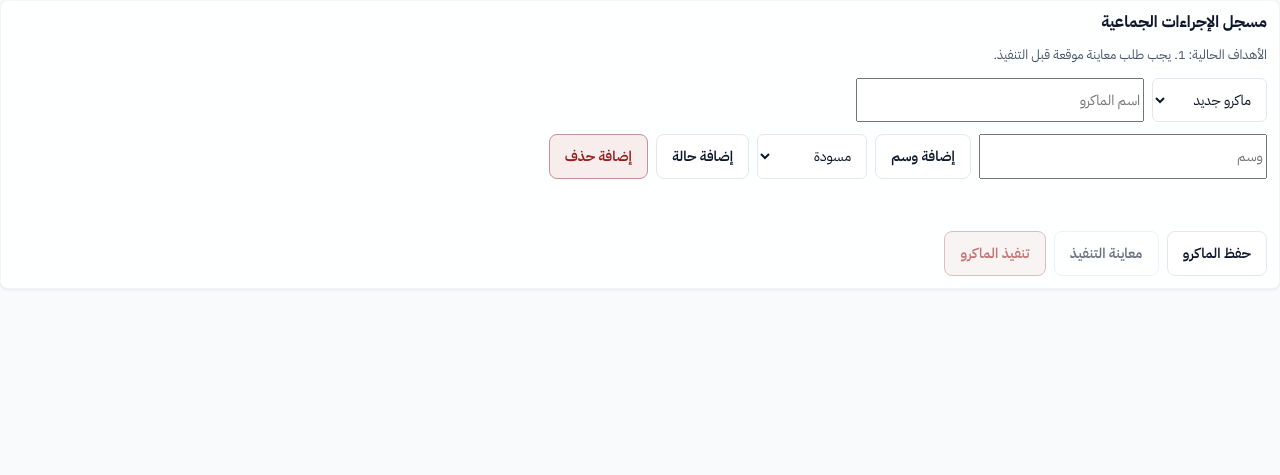
Scenario: BulkMacroRecorder › renders a localized target_failed reason in persisted history details
The width and height of the screenshot is (1280, 475).
Select "فشل محفوظ" in the dropdown named "الماكرو المحفوظ" at point(1210, 100), box x1=1152 y1=78 x2=1267 y2=122
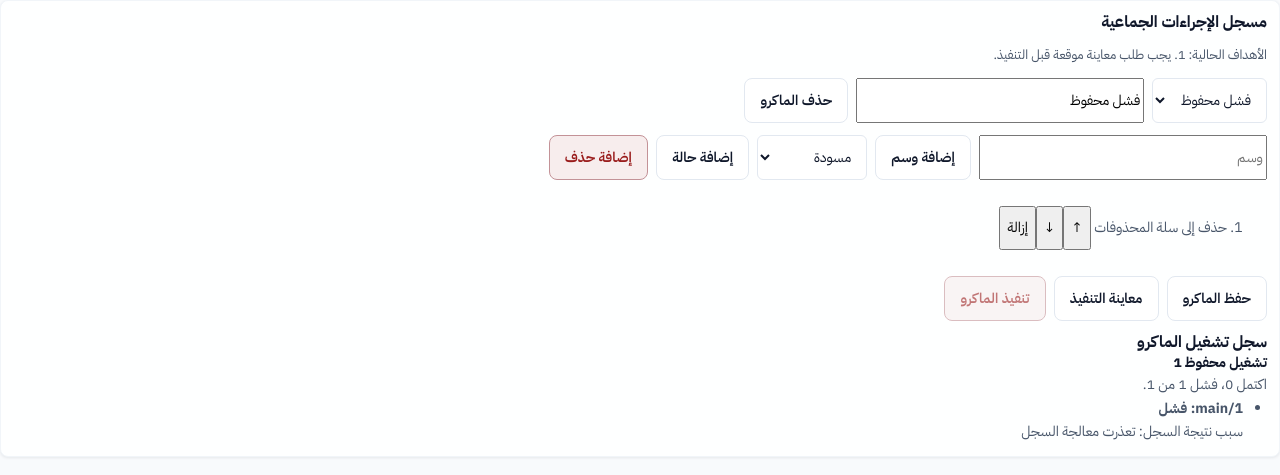
Check: the element "تشغيل محفوظ 1" does not show "target_failed", box x1=1021 y1=352 x2=1267 y2=442
Check: the element "تشغيل محفوظ 1" shows "سبب نتيجة السجل: تعذرت معالجة السجل", box x1=1021 y1=352 x2=1267 y2=442
